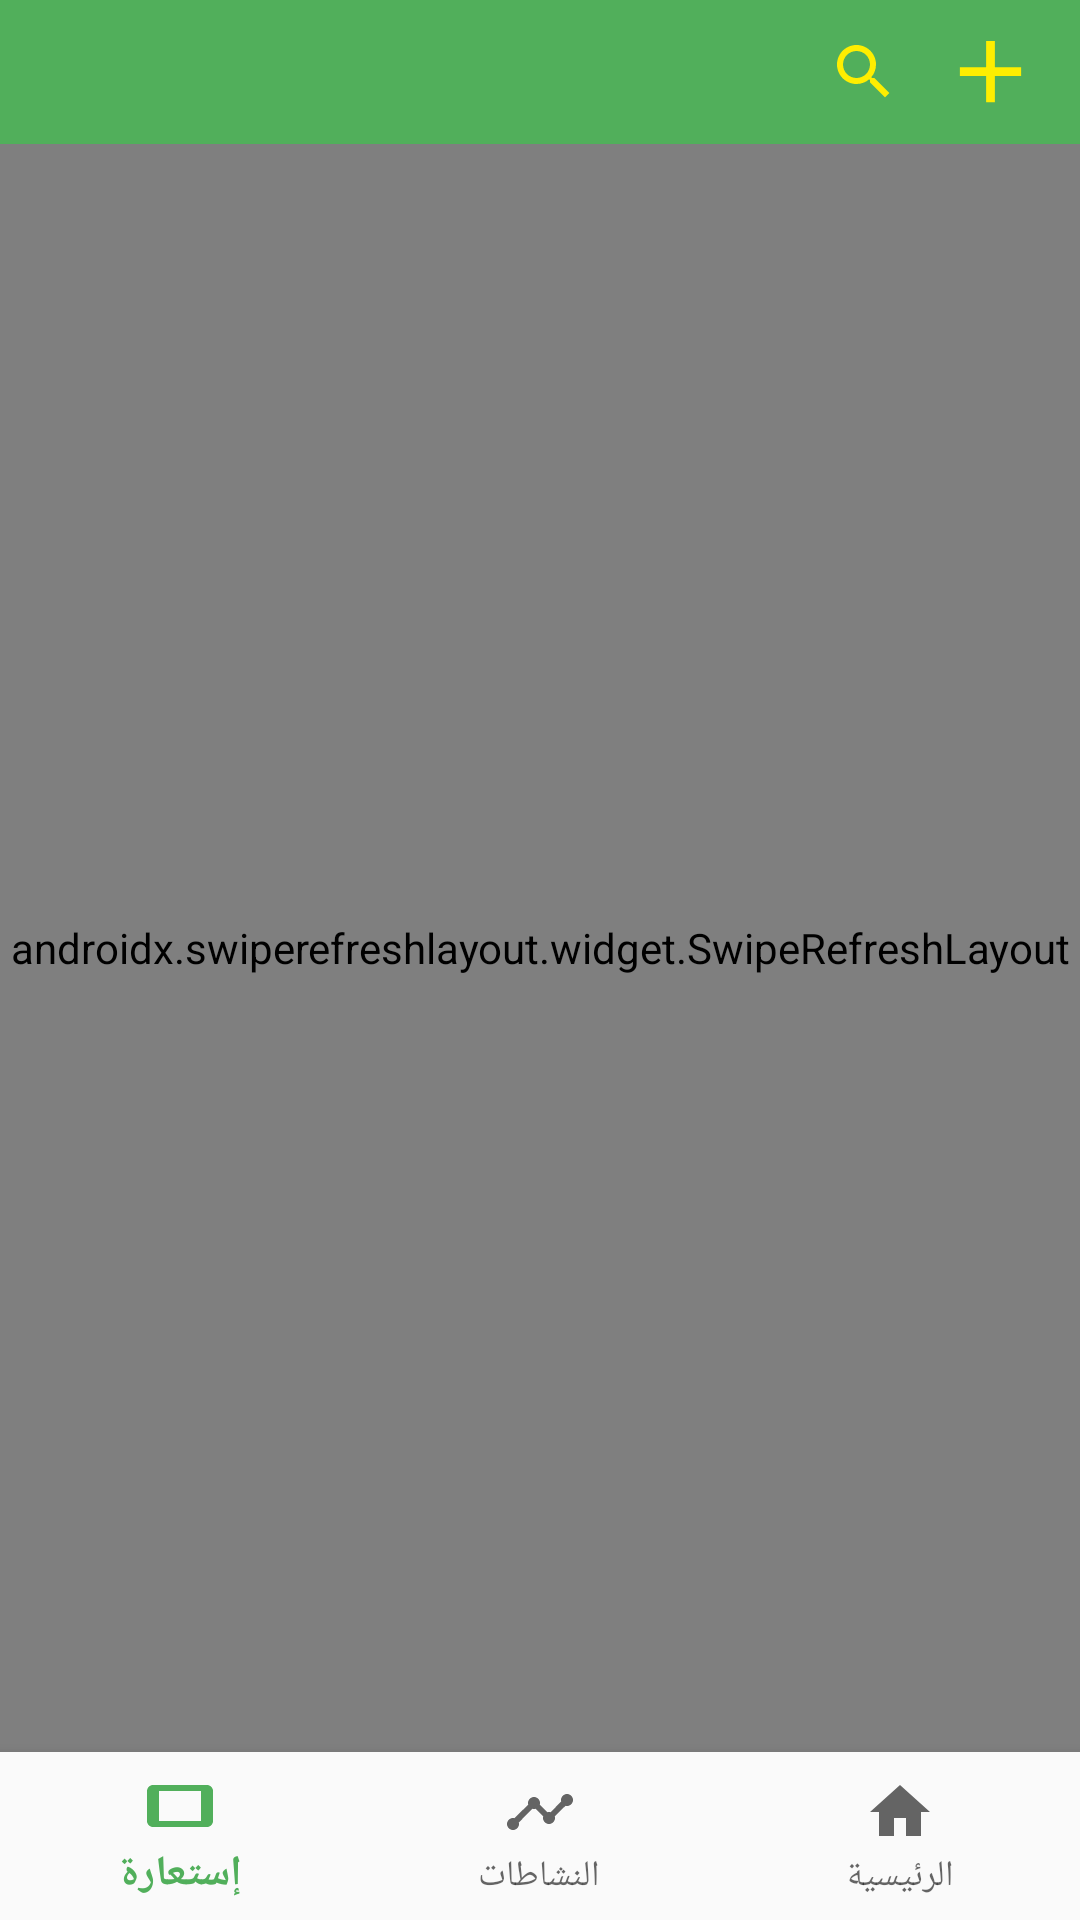

Icon click points for this 1080 × 1920 phone screenshot, format point (x, y):
add: point (990, 72)
search: point (863, 71)
